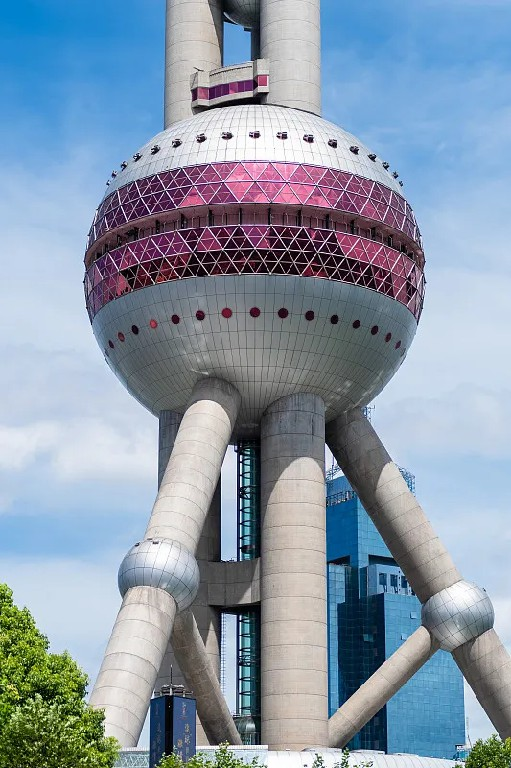Oriental: (82, 2, 511, 749)
